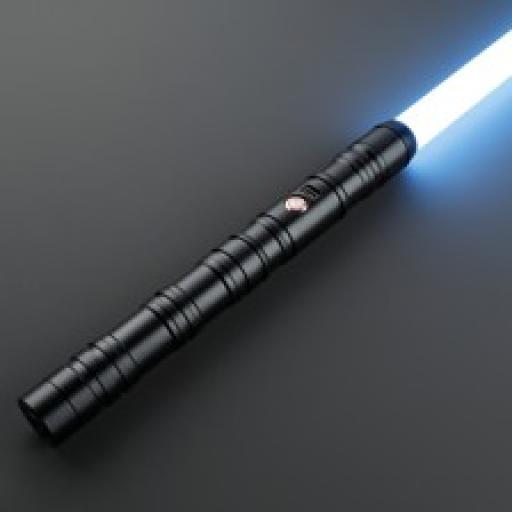lightsaber: (20, 0, 509, 443)
